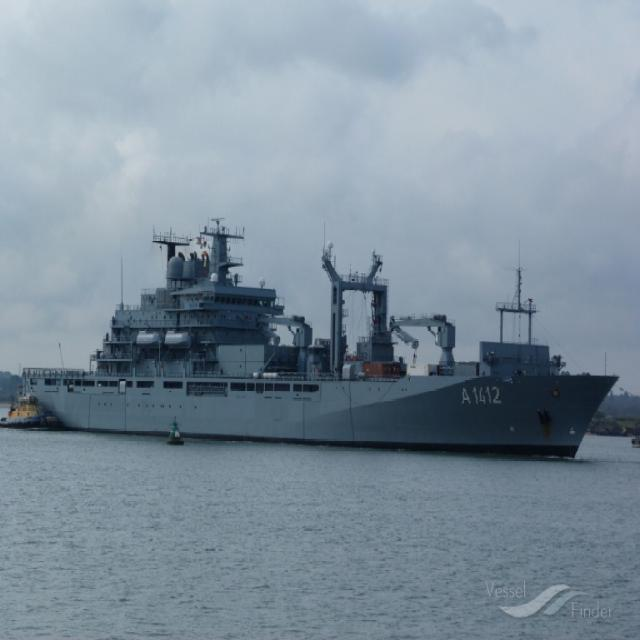OCR: (454, 378, 512, 418)
